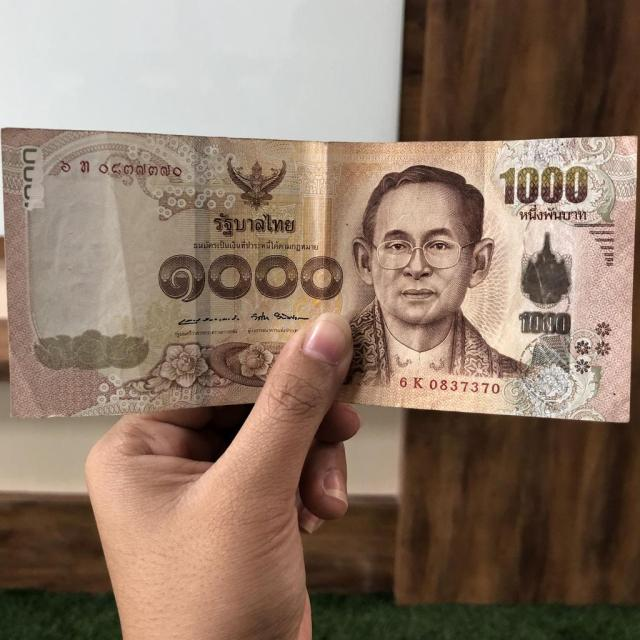THAI1000: (1, 128, 639, 425)
